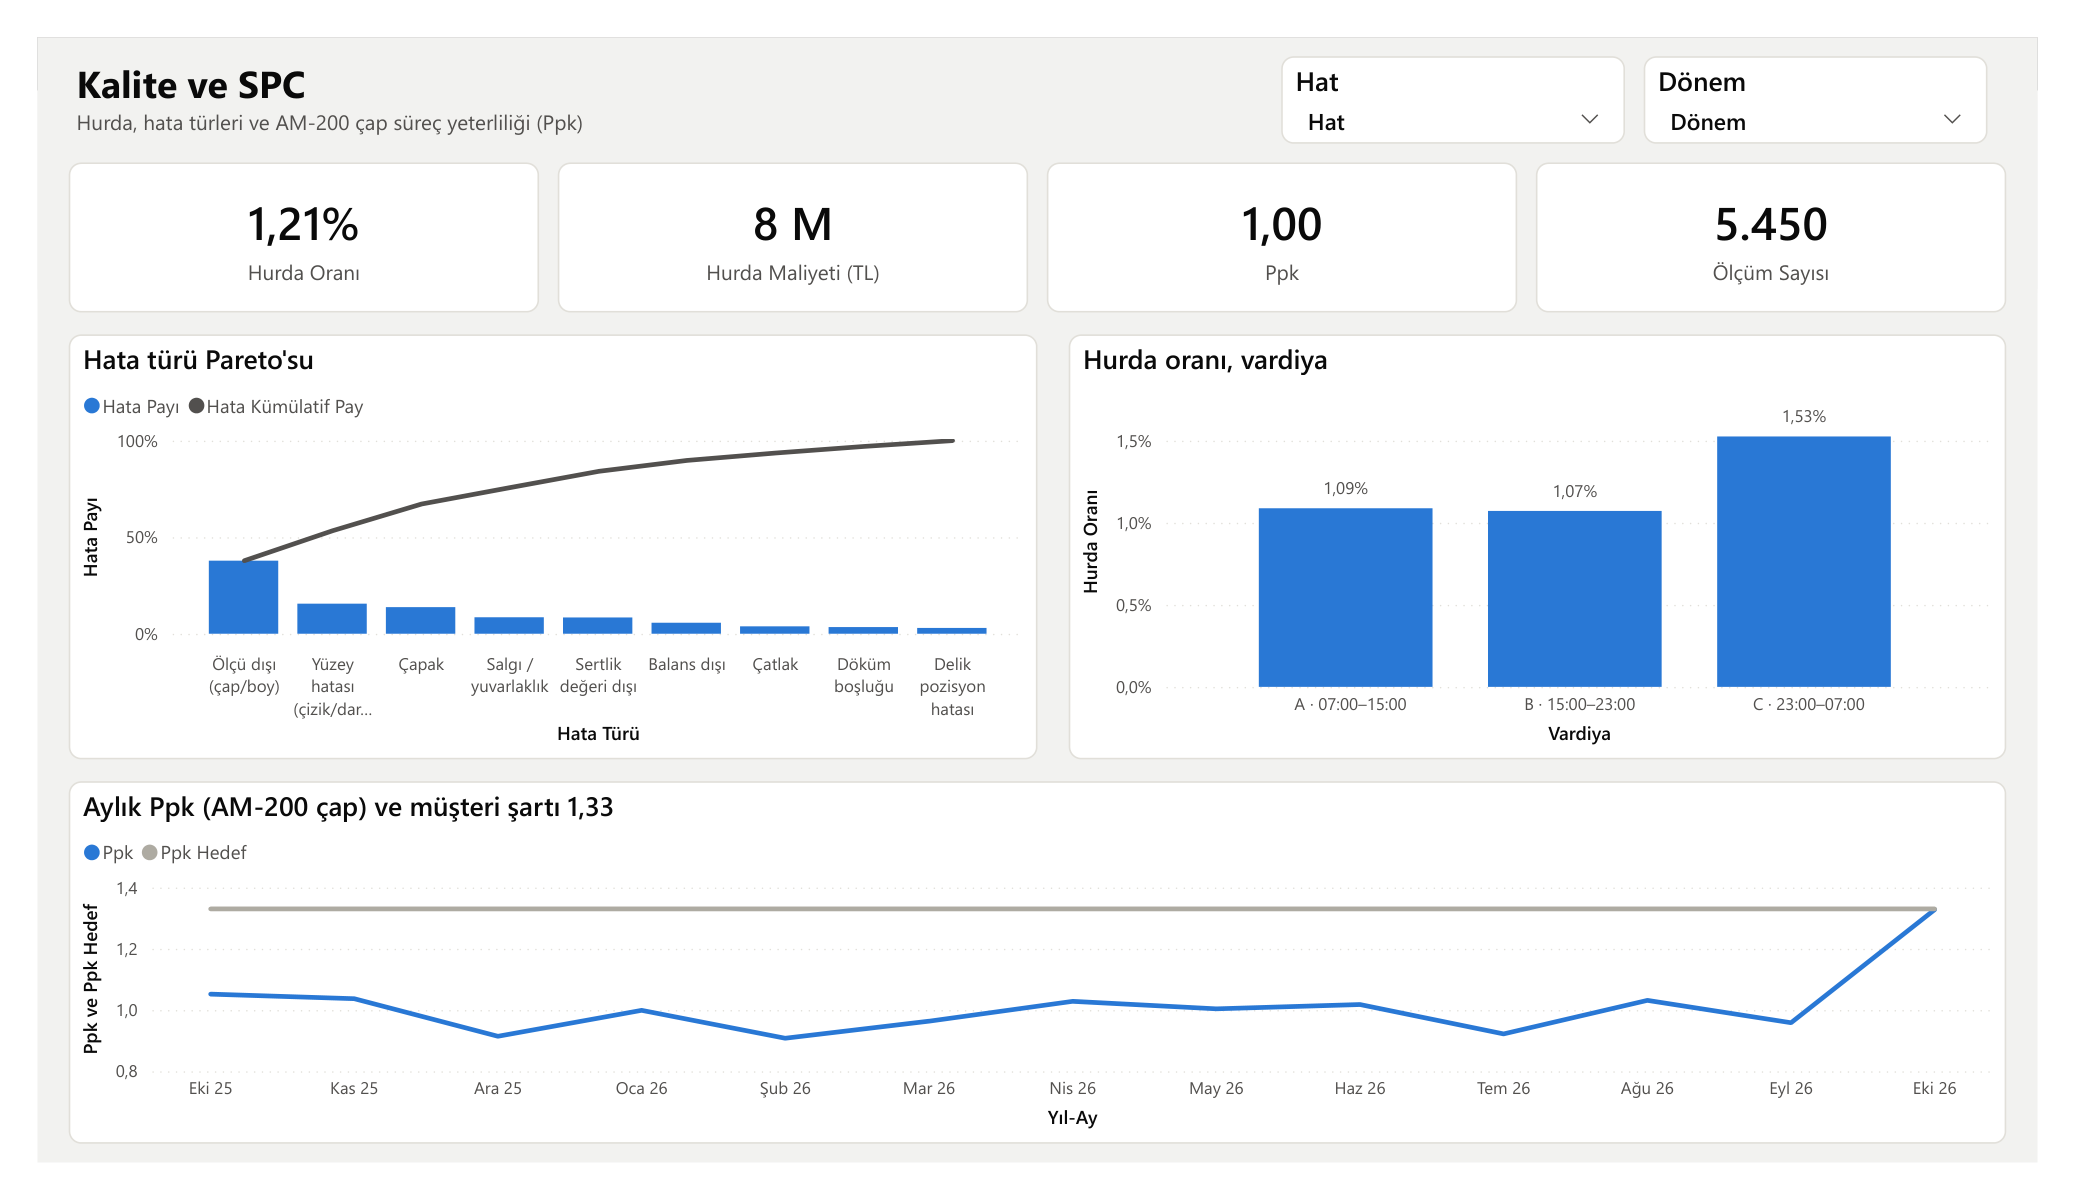

Layout of this report page (visuals, bound fields, positions):
{"tool":"powerbi","page":{"name":"Kalite ve SPC","canvas":[1280,720],"ordinal":3},"visuals":[{"type":"textbox","box":[20,8,760,60],"z":0},{"type":"slicer","title":"Hat","fields":{"Values":["DimUrun.Hat"]},"box":[796,12,220,56],"z":1000},{"type":"slicer","title":"Dönem","fields":{"Values":["DimTarih.Dönem"]},"box":[1028,12,220,56],"z":2000},{"type":"card","fields":{"Values":["_Ölçüler.Hurda Oranı"]},"box":[20,80,301,96],"z":3000},{"type":"card","fields":{"Values":["_Ölçüler.Hurda Maliyeti (TL)"]},"box":[333,80,301,96],"z":4000},{"type":"card","fields":{"Values":["_Ölçüler.Ppk"]},"box":[646,80,301,96],"z":5000},{"type":"card","fields":{"Values":["_Ölçüler.Ölçüm Sayısı"]},"box":[959,80,301,96],"z":6000},{"type":"lineClusteredColumnComboChart","title":"Hata türü Pareto''su","fields":{"Category":["DimHataTuru.Hata Türü"],"Y":["_Ölçüler.Hata Payı"],"Y2":["_Ölçüler.Hata Kümülatif Pay"]},"box":[20,190,620,272],"z":7000},{"type":"clusteredColumnChart","title":"Hurda oranı, vardiya","fields":{"Category":["DimVardiya.Vardiya"],"Y":["_Ölçüler.Hurda Oranı"]},"box":[660,190,600,272],"z":8000},{"type":"lineChart","title":"Aylık Ppk (AM-200 çap) ve müşteri şartı 1,33","fields":{"Category":["DimTarih.Yıl-Ay"],"Y":["_Ölçüler.Ppk","_Ölçüler.Ppk Hedef"]},"box":[20,476,1240,232],"z":9000}]}

Visuals, with their boxes on the page's 1280x720 design canvas (x1, y1, x2, y2). These are canvas units, not pixel positions in the 2075x1200 screenshot, which may show the page scaled, cropped or inside an application window:
textbox: l=20, t=8, r=780, b=68
"Hat" slicer: l=796, t=12, r=1016, b=68
"Dönem" slicer: l=1028, t=12, r=1248, b=68
card - _Ölçüler.Hurda Oranı: l=20, t=80, r=321, b=176
card - _Ölçüler.Hurda Maliyeti (TL): l=333, t=80, r=634, b=176
card - _Ölçüler.Ppk: l=646, t=80, r=947, b=176
card - _Ölçüler.Ölçüm Sayısı: l=959, t=80, r=1260, b=176
"Hata türü Pareto''su" lineClusteredColumnComboChart: l=20, t=190, r=640, b=462
"Hurda oranı, vardiya" clusteredColumnChart: l=660, t=190, r=1260, b=462
"Aylık Ppk (AM-200 çap) ve müşteri şartı 1,33" lineChart: l=20, t=476, r=1260, b=708
